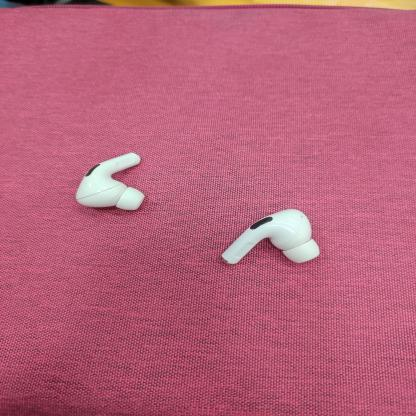Airpods: (208, 194, 331, 276), (70, 142, 155, 222)
